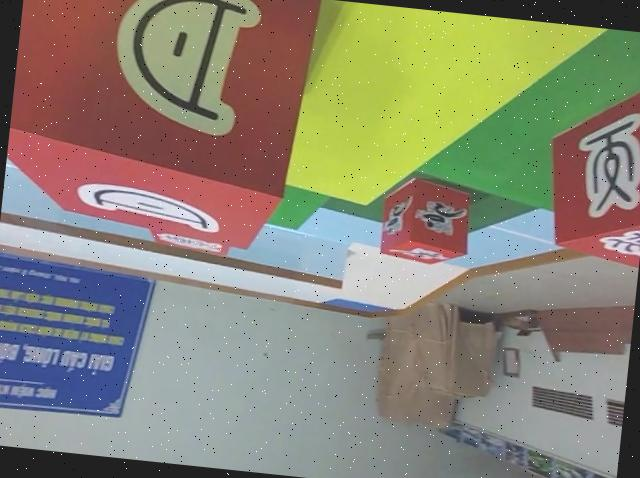R1: (378, 175, 476, 270)
R2 Fake: (540, 54, 640, 272)
R2 Real: (0, 0, 326, 259)
